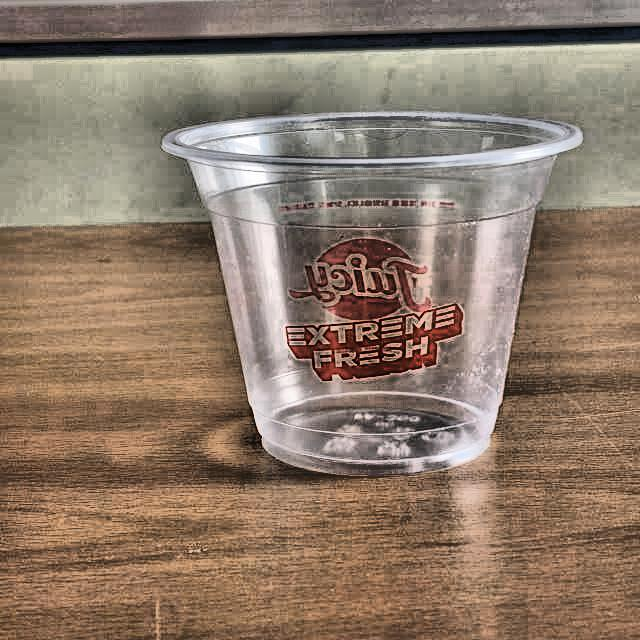plastic cup: (158, 108, 587, 474)
